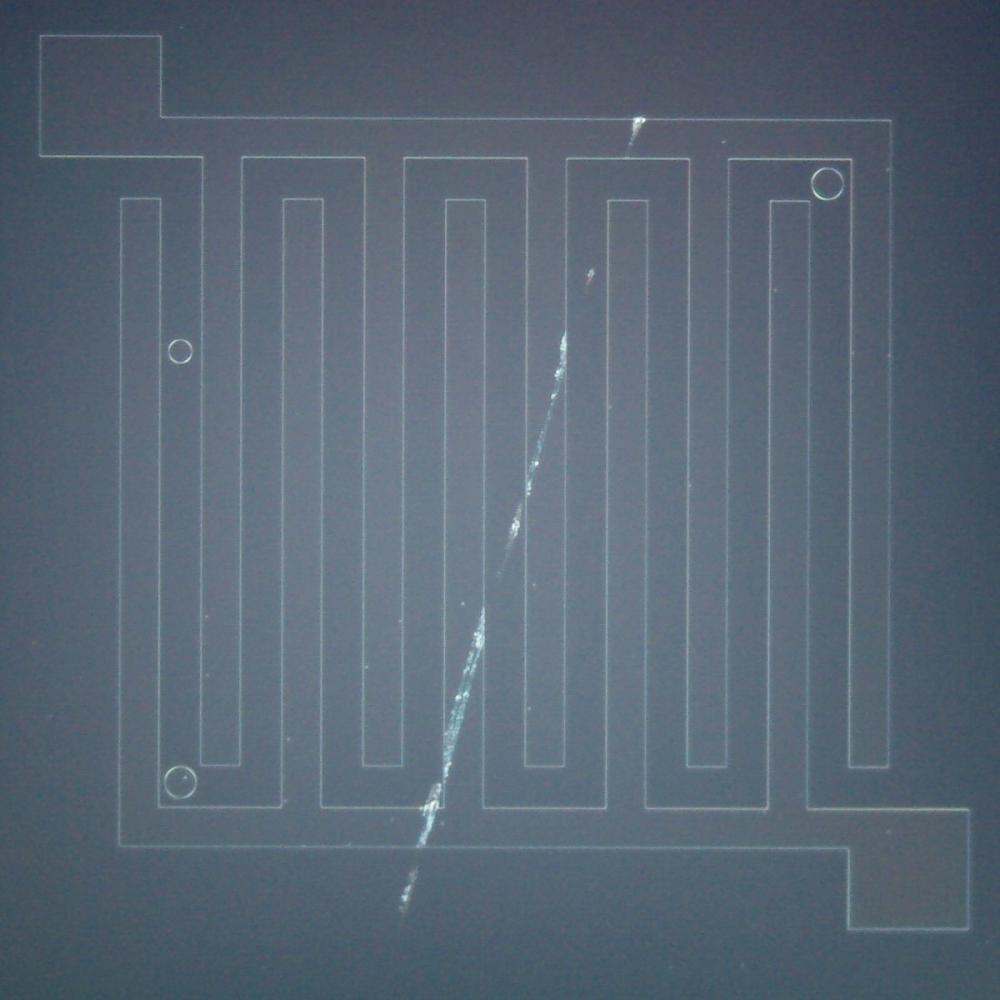dot: (721, 140, 726, 145), (183, 776, 187, 779)
straight: (418, 760, 460, 802), (408, 808, 446, 846), (391, 868, 428, 904), (460, 610, 497, 646), (446, 684, 482, 721), (432, 722, 468, 759), (447, 647, 483, 683), (618, 120, 655, 155), (543, 334, 580, 369), (528, 441, 564, 476), (488, 502, 525, 536), (487, 540, 524, 574), (541, 371, 577, 404), (533, 407, 568, 438)
